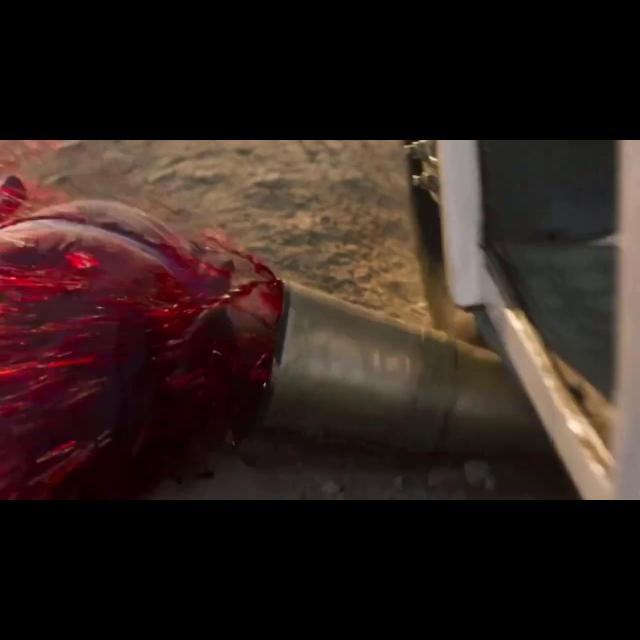blood: (0, 176, 286, 499)
